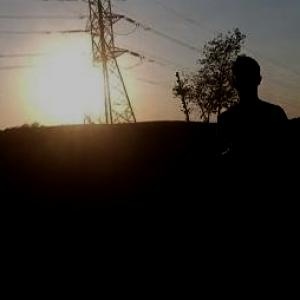follow: (208, 47, 298, 299)
